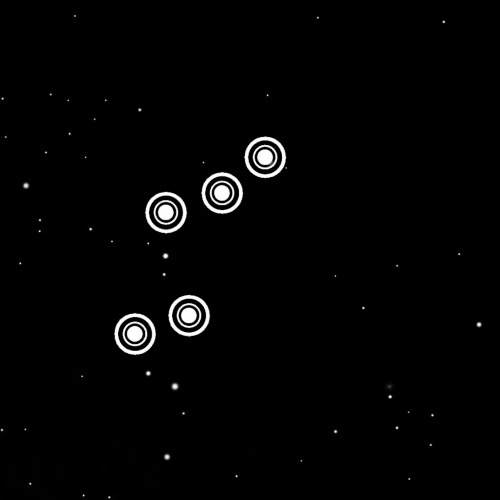lyra: (108, 125, 299, 364)
